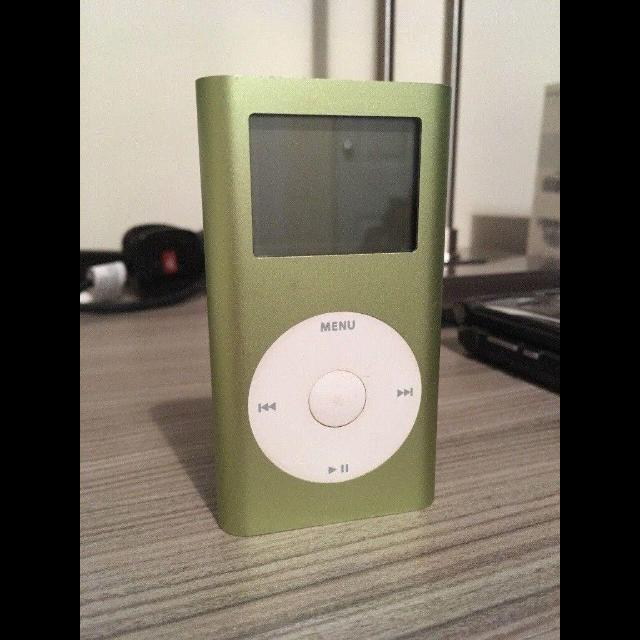Music-Player: (182, 68, 464, 550)
